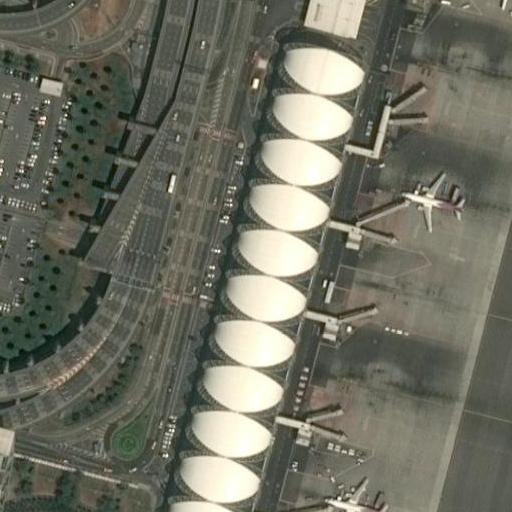Aircraft: (394, 170, 470, 234), (320, 471, 386, 512), (482, 0, 512, 9)
